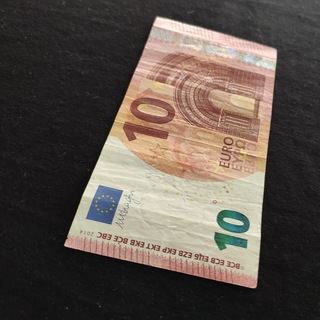10EUROFront: (63, 15, 277, 288)
